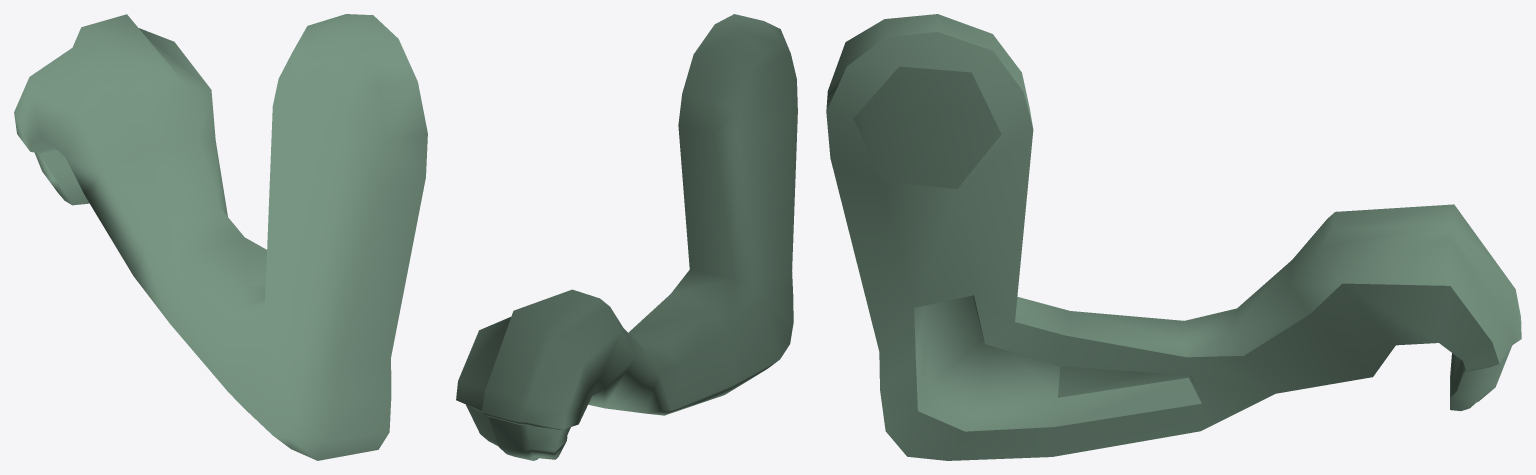
The model's file is BrazoIzquierdo.obj.
3 renders of one model, left to right at view 1: azimuth 30°, elevation 25°; view 2: azimuth 150°, elevation 25°; view 3: azimuth 270°, elevation 25°, orthographic. The views are drawn at different scales.
Visible parts, largest first — view 1: BrazoIzquierdo_polySurface11; view 2: BrazoIzquierdo_polySurface11; view 3: BrazoIzquierdo_polySurface11.
Boxes of the visible parts, x1,y1,x2,y2 form: BrazoIzquierdo_polySurface11: (14,14,427,460); BrazoIzquierdo_polySurface11: (456,14,797,460); BrazoIzquierdo_polySurface11: (826,14,1521,460).
Size of the model in its own units: 0.6242 by 1.67 by 2.43.
1 material, 1 textured.
